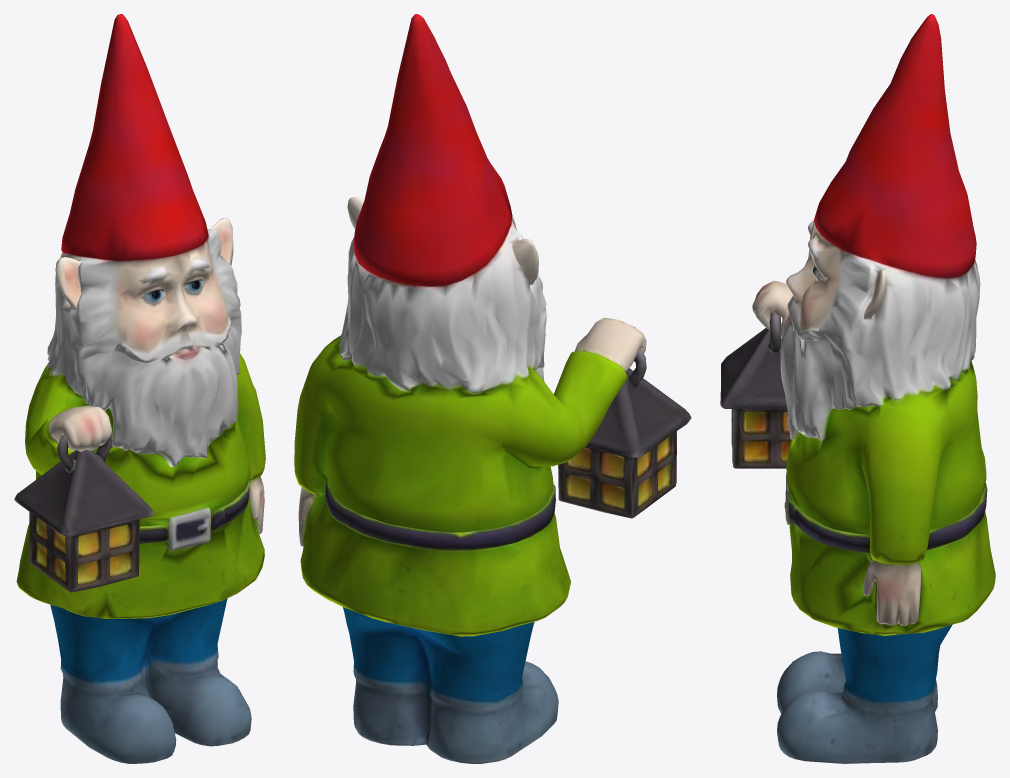
Rendered from garden_gnome.dcec7d93.glb.
The picture shows the model from 3 angles, left to right: view 1: azimuth 30°, elevation 25°; view 2: azimuth 150°, elevation 25°; view 3: azimuth 270°, elevation 25°; orthographic projection. The views are drawn at different scales.
Visible parts, largest first — view 1: garden_gnome; view 2: garden_gnome; view 3: garden_gnome.
Part boxes in pixels (left/top/right/bottom): garden_gnome: left=14, top=14, right=265, bottom=763; garden_gnome: left=294, top=14, right=691, bottom=763; garden_gnome: left=720, top=14, right=995, bottom=763.
Size of the model in its own units: 0.4299 by 1 by 0.3501.
1 material, 1 textured.
